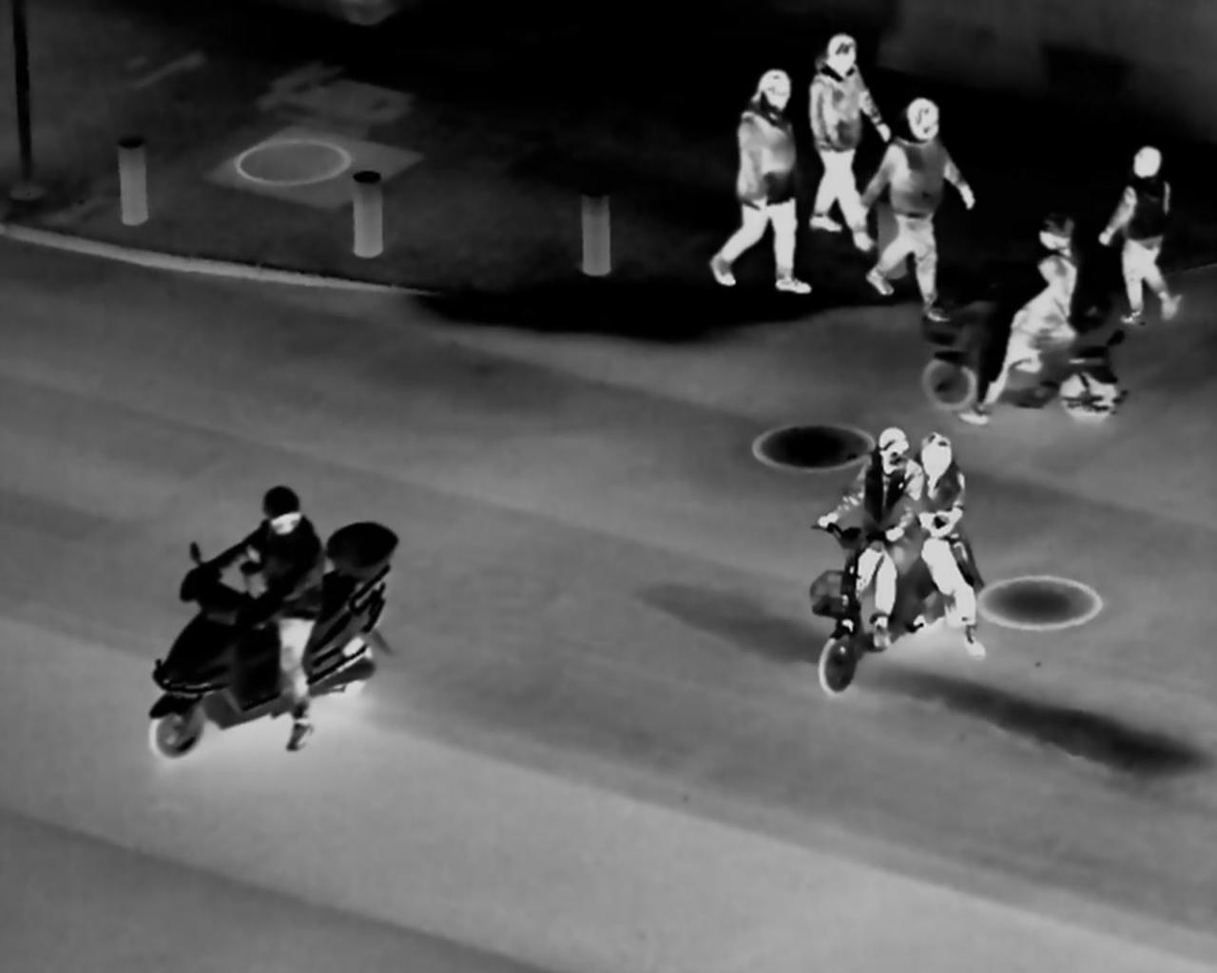person: (222, 481, 329, 743), (894, 418, 1005, 659), (707, 56, 807, 309), (872, 89, 967, 330), (828, 416, 915, 651), (1006, 213, 1102, 421), (804, 27, 888, 261), (1097, 136, 1188, 325)
